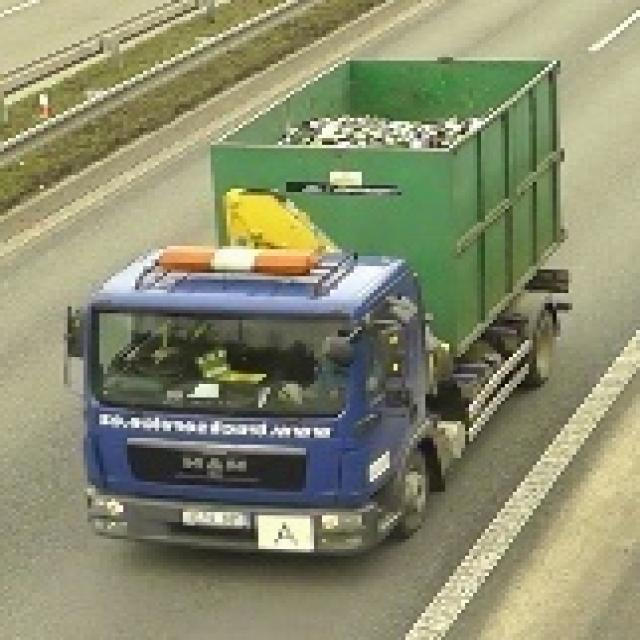truck: (65, 52, 570, 560)
